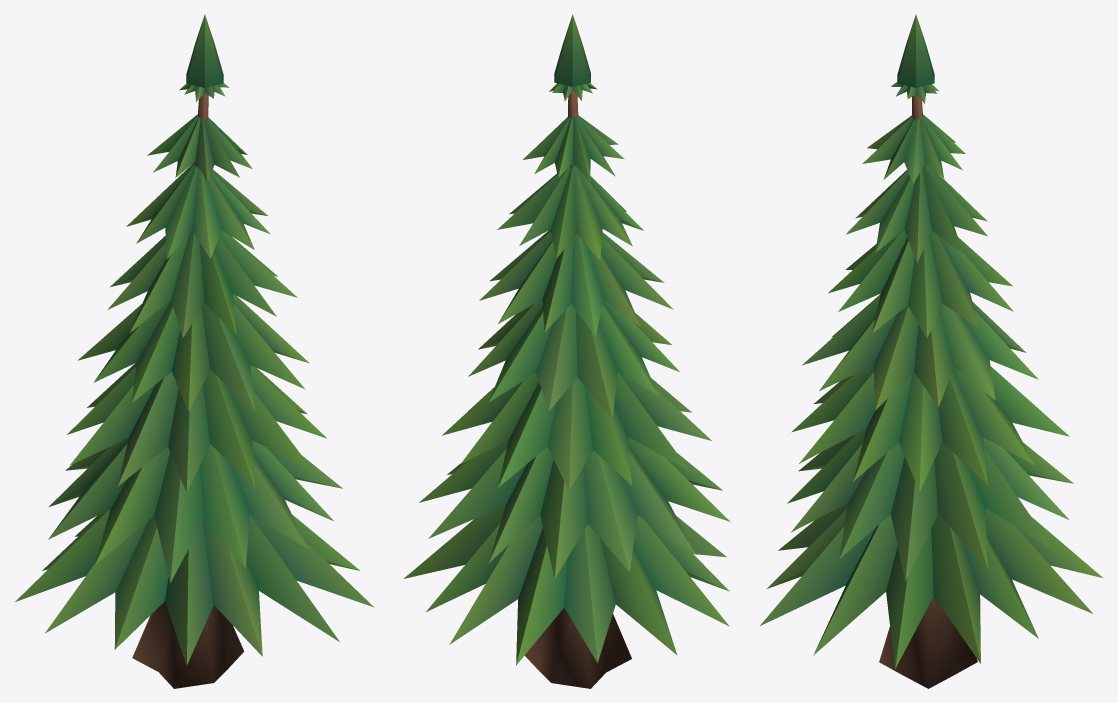
The model's file is f_pine4.glb.
3 renders of one model, left to right at view 1: azimuth 30°, elevation 25°; view 2: azimuth 150°, elevation 25°; view 3: azimuth 270°, elevation 25°, orthographic.
Visible parts, largest first — view 1: pine4; view 2: pine4; view 3: pine4.
Part boxes in pixels (left/top/right/bottom): pine4: left=15, top=14, right=374, bottom=688; pine4: left=403, top=14, right=730, bottom=688; pine4: left=760, top=14, right=1103, bottom=688.
Bounding box in the file's own units: 4.92 × 10.06 × 4.81.
